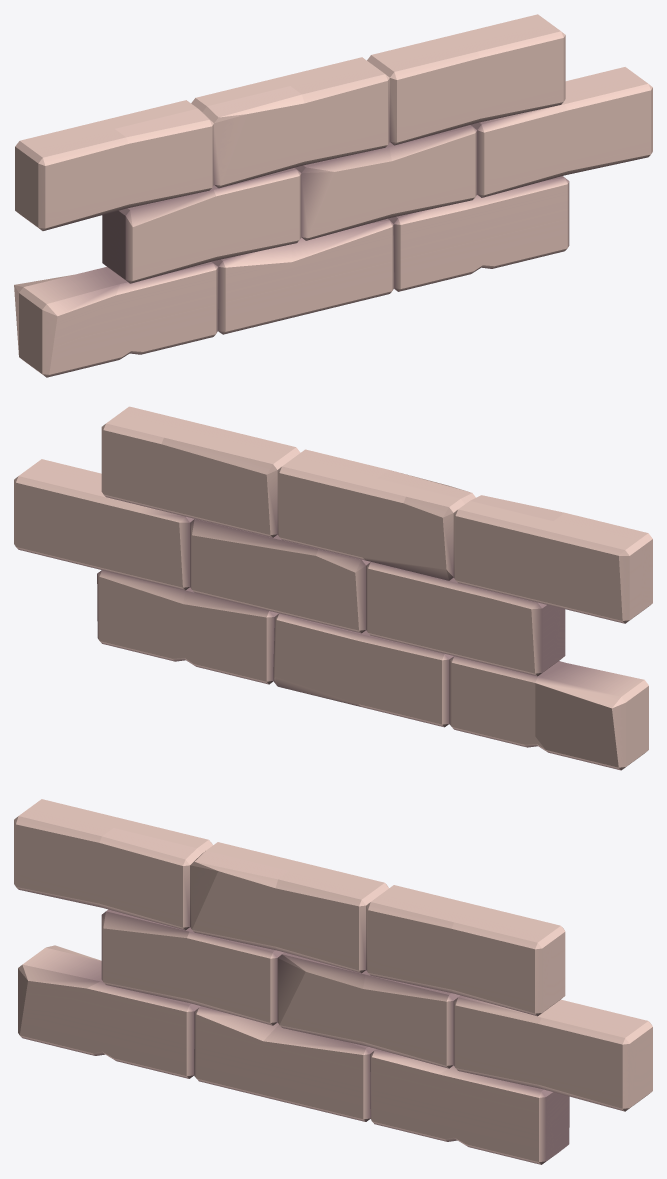
File: wall1.fbx
3 renders of one model, top to bottom at view 1: azimuth 30°, elevation 25°; view 2: azimuth 150°, elevation 25°; view 3: azimuth 330°, elevation 25°, orthographic.
Visible parts, largest first — view 1: Cube.007; view 2: Cube.007; view 3: Cube.007.
Part boxes in pixels (x1=…): Cube.007: x1=14, y1=14, x2=652, y2=377; Cube.007: x1=14, y1=406, x2=652, y2=770; Cube.007: x1=14, y1=799, x2=652, y2=1164.
Size of the model in its own units: 699 by 240 by 69.56.
